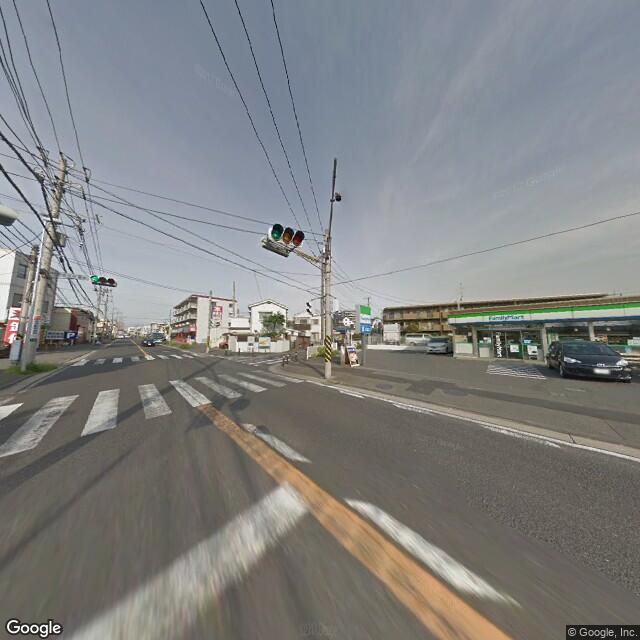family_mart: (447, 298, 638, 327), (358, 299, 373, 335)
